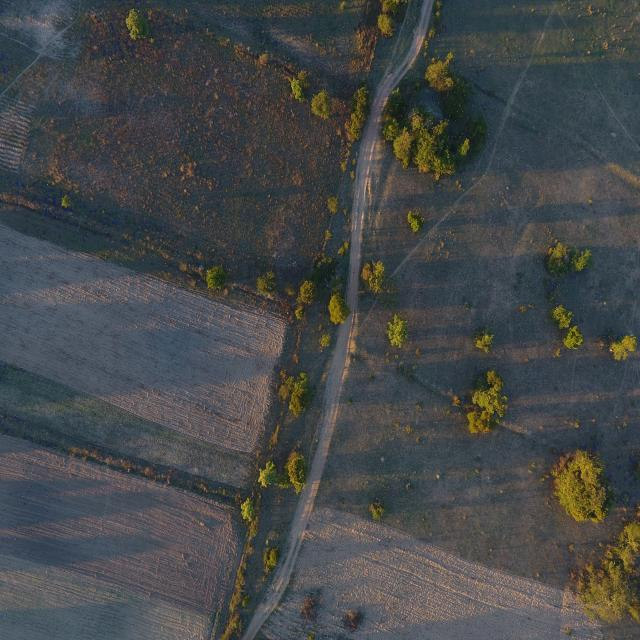boundaries: (21, 183, 290, 319), (15, 414, 230, 517)
